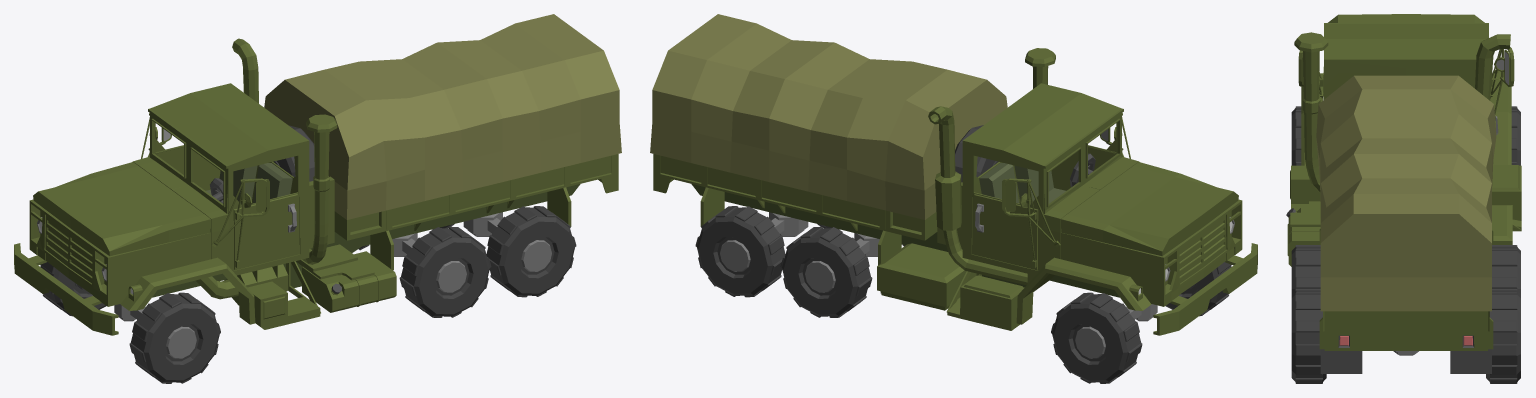
The model's file is prop_truck.glb.
3 renders of one model, left to right at view 1: azimuth 30°, elevation 25°; view 2: azimuth 150°, elevation 25°; view 3: azimuth 270°, elevation 25°, orthographic. The views are drawn at different scales.
Parts seen in each view (by area): view 1: Main, front_left_wheel, middle_left_wheel, back_left_wheel, front_right_wheel; view 2: Main, front_right_wheel, middle_right_wheel, back_right_wheel, front_left_wheel; view 3: Main, back_left_wheel, back_right_wheel, middle_left_wheel, middle_right_wheel, front_left_wheel, front_right_wheel.
Boxes of the visible parts, x1,y1,x2,y2 form: Main: (14, 14, 621, 335); front_left_wheel: (129, 292, 220, 383); middle_left_wheel: (399, 226, 491, 317); back_left_wheel: (486, 206, 576, 297); front_right_wheel: (40, 262, 106, 316); Main: (650, 14, 1257, 335); front_right_wheel: (1051, 292, 1142, 383); middle_right_wheel: (780, 226, 872, 317); back_right_wheel: (695, 206, 785, 297); front_left_wheel: (1165, 262, 1231, 316); Main: (1286, 14, 1521, 373); back_left_wheel: (1291, 288, 1326, 383); back_right_wheel: (1486, 288, 1520, 383); middle_left_wheel: (1291, 245, 1320, 294); middle_right_wheel: (1492, 245, 1520, 293); front_left_wheel: (1291, 106, 1301, 165); front_right_wheel: (1511, 106, 1520, 165).
Size of the model in its own units: 7.26 by 3.05 by 2.67.
